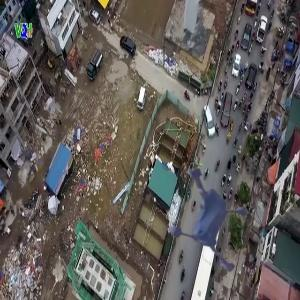drone: (140, 148, 261, 269)
